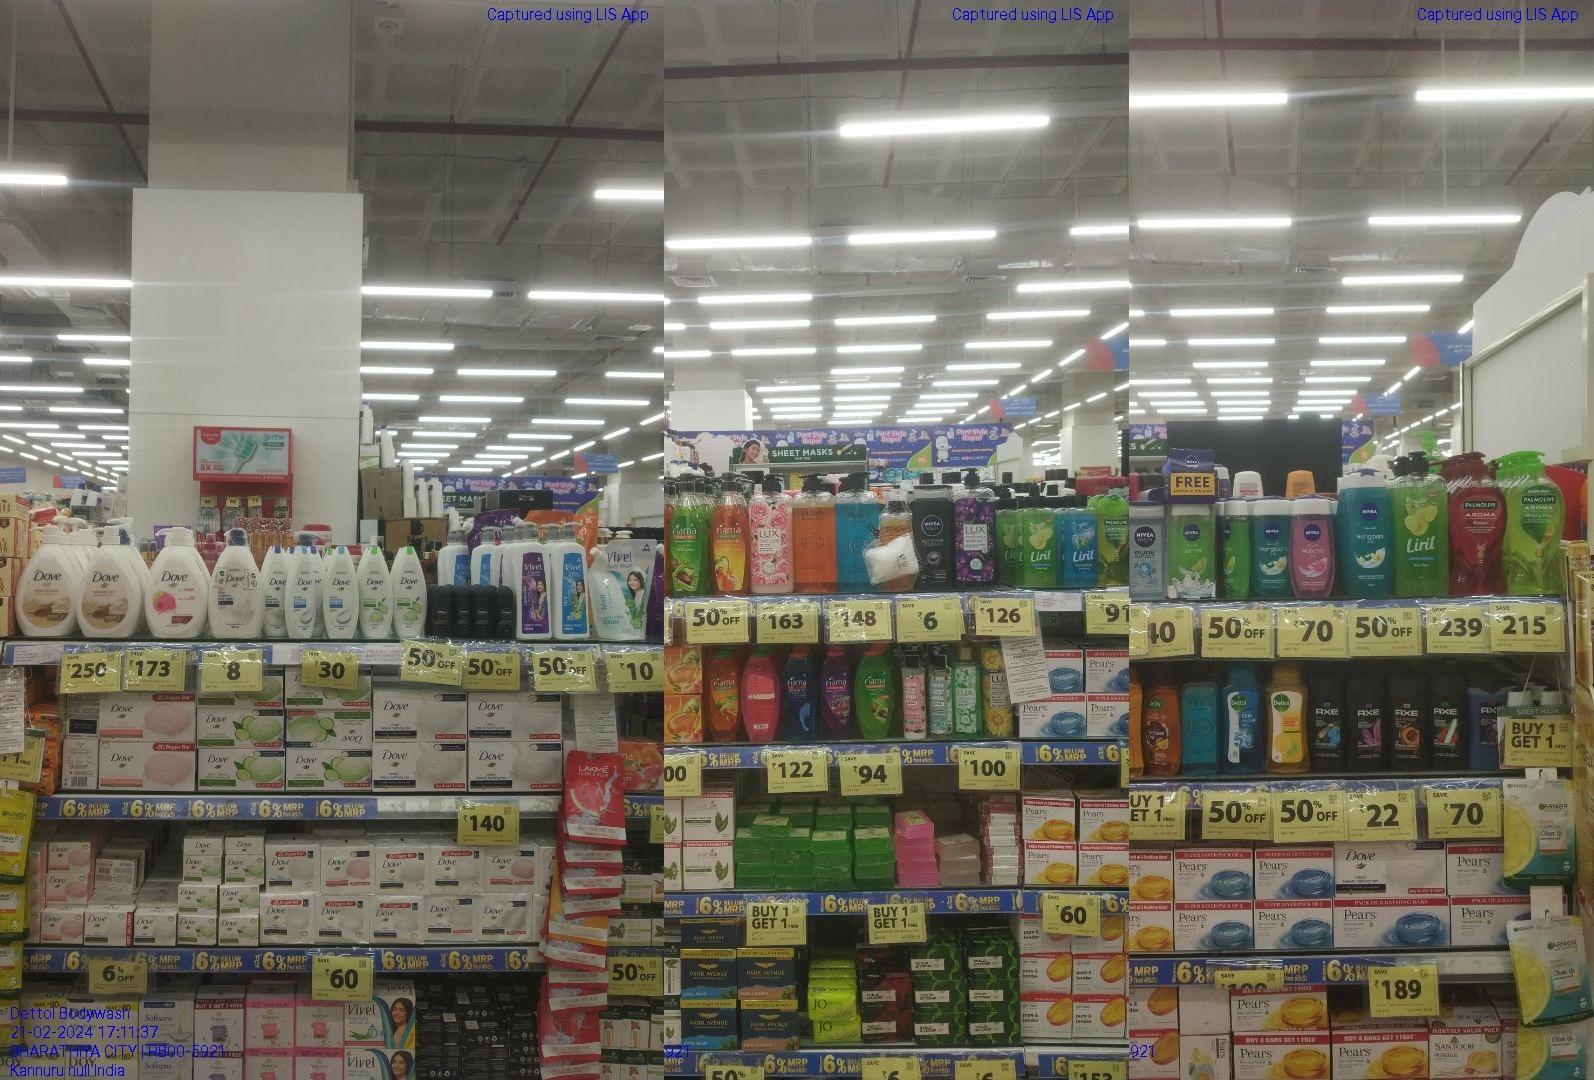Dettol_Bodywash_Cool: (1223, 662, 1265, 771)
Dettol_Bodywash_Refresh: (1267, 662, 1311, 773)
Dove_Deep_Moisture_Body_Wash_250ML: (264, 548, 284, 638)
Dove_Gentle_Exfoliating_Body_Wash_250ML: (324, 547, 357, 638), (286, 547, 314, 638)
Dove_Refreshing_Body_Wash_250ML: (394, 545, 427, 639), (359, 547, 392, 639)
Fiama_Shower_Gel_Lemongrass_and_Jojoba_250ML: (855, 647, 892, 736)
Fiama_Shower_Gel_Peach_and_Avocado_250ML: (707, 647, 742, 742)
Joy_Shower_Gel_Mandarin_and_Lemongrass_250ML: (1143, 674, 1180, 776)
Liril_Cooling_Mint_Body_Wash_250ML: (1061, 497, 1098, 588)
Liril_Lime_and_Tea_Tree_Oil_Body_Wash_250ML: (1023, 497, 1057, 586)
Lux_Body_Wash_Skin_Detox_Freesia_Scent_and_Alove_Vera_245ML: (952, 647, 983, 739)
Nivea_Shower_Gel_Frangipani_and_Oil_250ML: (1252, 503, 1288, 597)
Nivea_Shower_Gel_Lemon_and_Oil_250ML: (1167, 504, 1216, 597)
Nivea_Shower_Gel_Waterlily_and_Oil_250ML: (1290, 504, 1333, 600)
Palmolive_Aroma_Morning_Tonic_Shower_Gel_250ML: (1100, 497, 1129, 587)
Pears_Pure_Glycerin_and_Mint_Extracts_Body_Wash_250ML: (1181, 669, 1221, 775)
